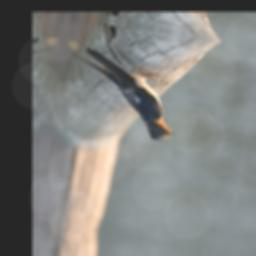Swallow: (56, 42, 191, 148)
